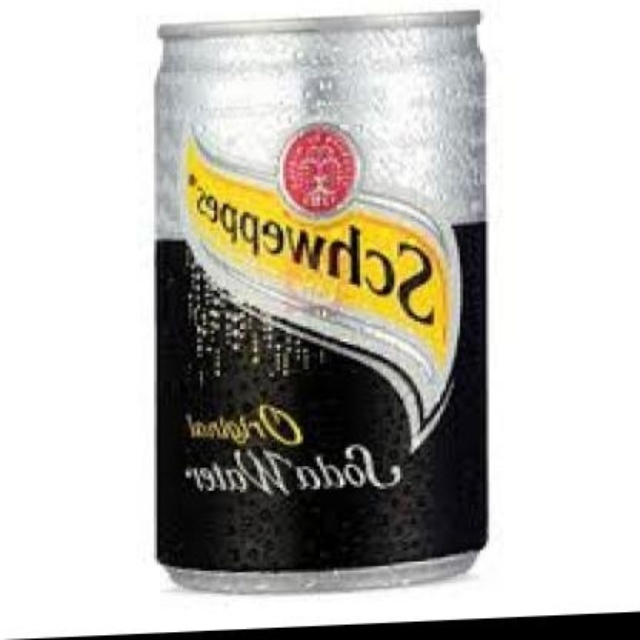trash: (157, 11, 485, 589)
